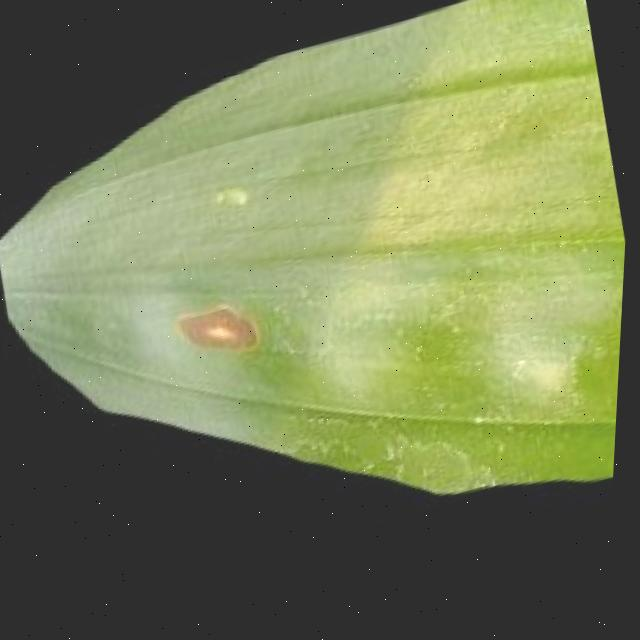mite: (155, 178, 283, 377), (210, 184, 253, 220)
sunburn: (172, 293, 268, 378)
